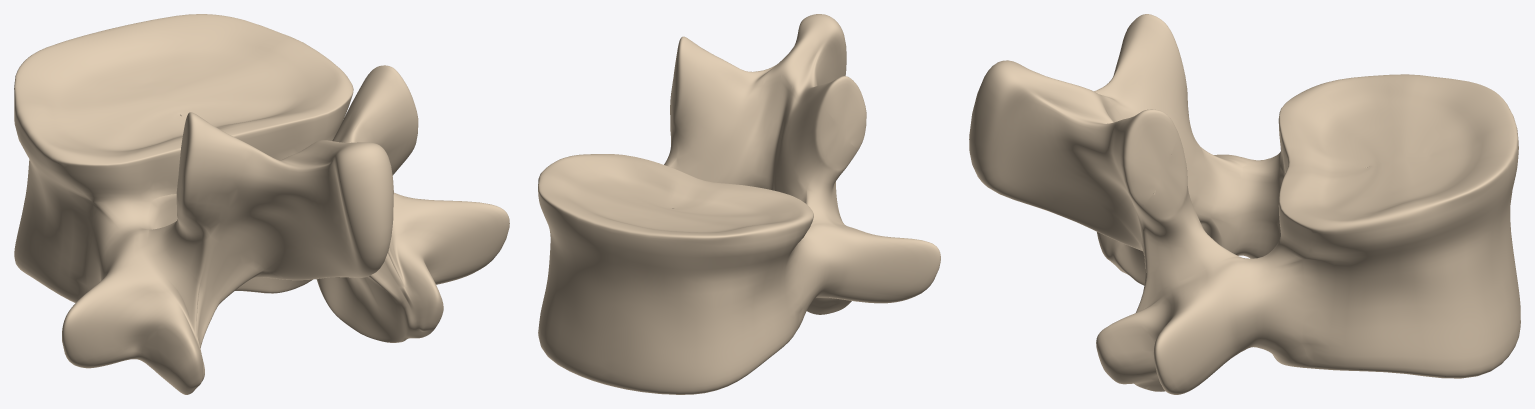
The picture shows the model from 3 angles, left to right: view 1: azimuth 30°, elevation 25°; view 2: azimuth 150°, elevation 25°; view 3: azimuth 270°, elevation 25°; orthographic projection. The views are drawn at different scales.
Parts seen in each view (by area): view 1: L3; view 2: L3; view 3: L3.
Boxes of the visible parts, x1,y1,x2,y2 form: L3: (14, 14, 509, 394); L3: (538, 14, 940, 394); L3: (969, 14, 1520, 394).
Size of the model in its own units: 82.08 by 49.51 by 88.24.
